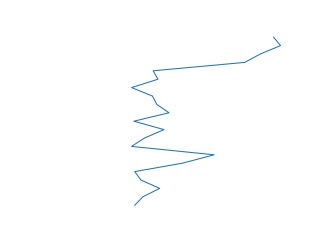crevasseRiverChannelBar: (125, 35, 286, 210)
